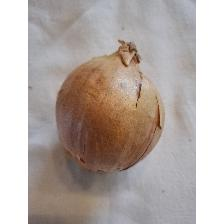Zwiebel: (54, 38, 166, 176)
